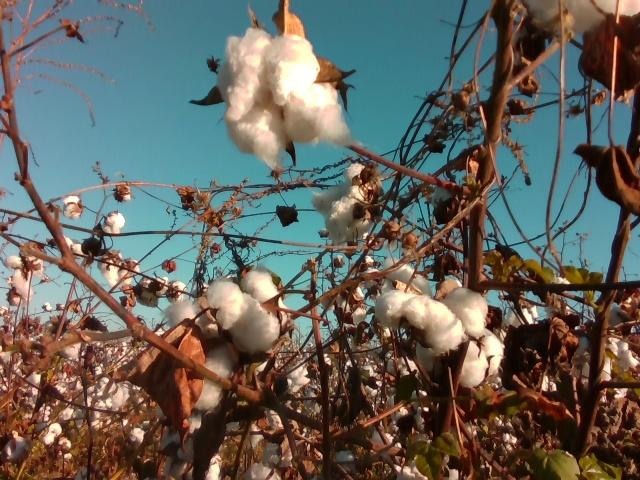cotton_ready: (221, 27, 352, 172), (165, 302, 235, 411), (203, 269, 288, 352), (375, 291, 489, 352), (312, 162, 377, 243), (417, 333, 506, 388), (575, 334, 638, 404), (520, 0, 640, 36), (162, 417, 226, 480)
